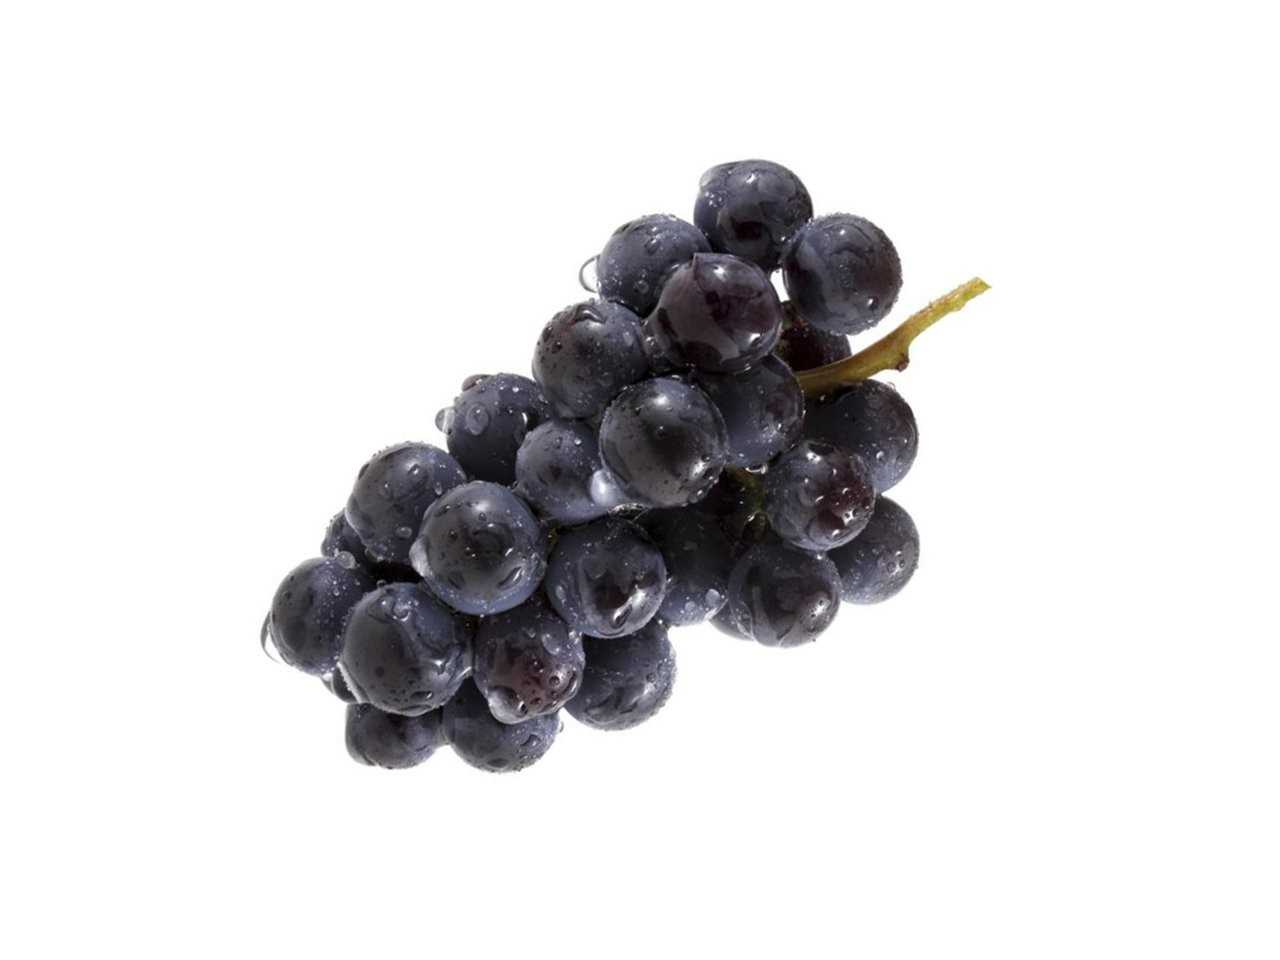Black grapes: (278, 178, 982, 779)
